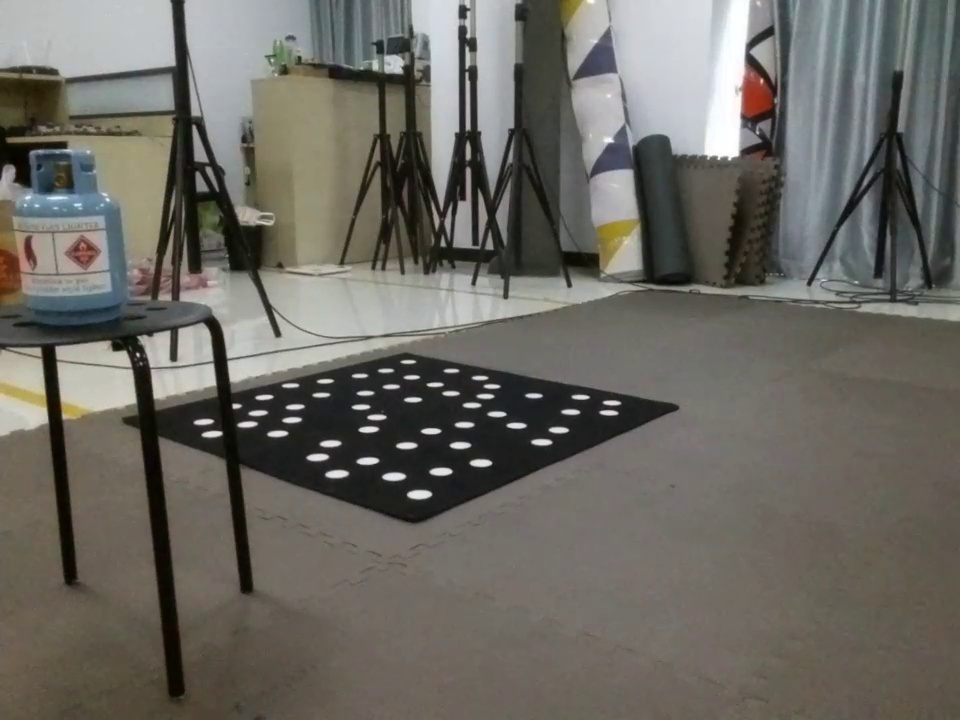gas tank: (8, 151, 136, 331)
